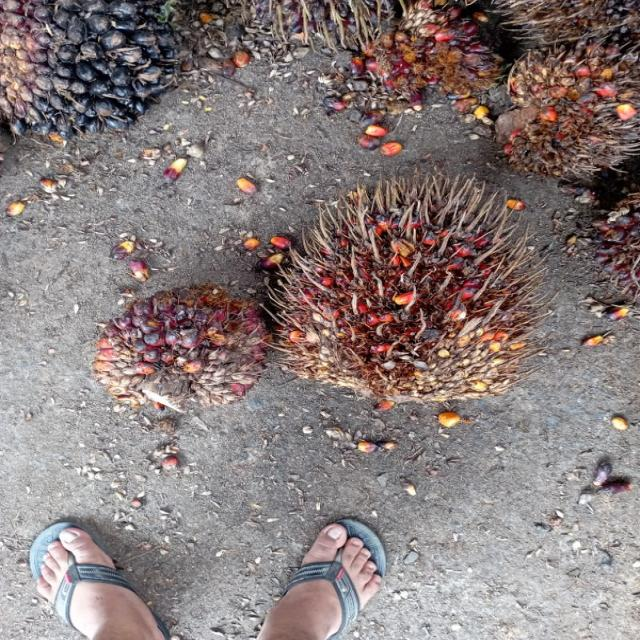fraksi 1: (41, 246, 305, 456)
fraksi 4: (209, 130, 585, 464)
